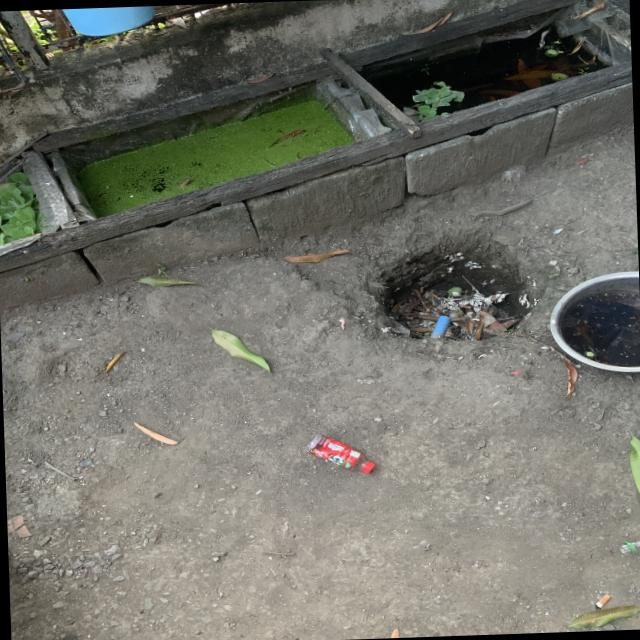Bottle: (307, 436, 375, 473)
